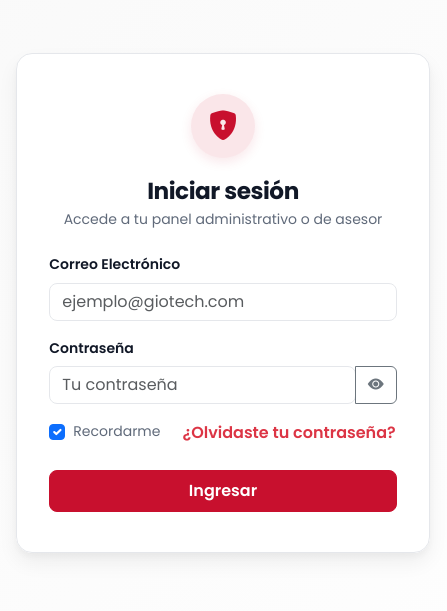
Scenario: Login Component & Error Mapping › displays Spanish error alert when login fails with invalid credentials
This screenshot has width=447, height=611.
Type "admin@giotech.com" into the field with placeholder "ejemplo@giotech.com" at (223, 302), box [49, 283, 397, 321]
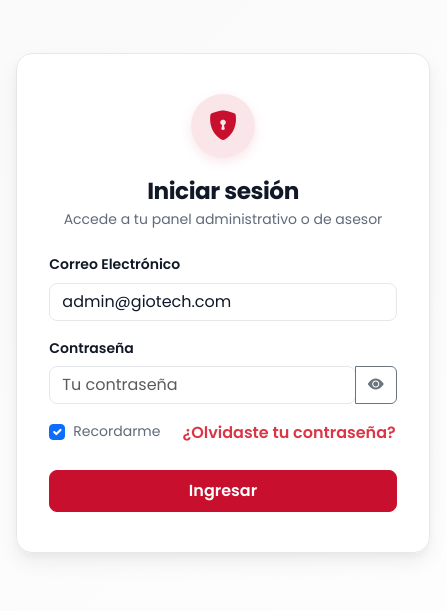
Type "wrongpassword" into the password field with placeholder "Tu contraseña" at (202, 385), box [49, 366, 356, 404]
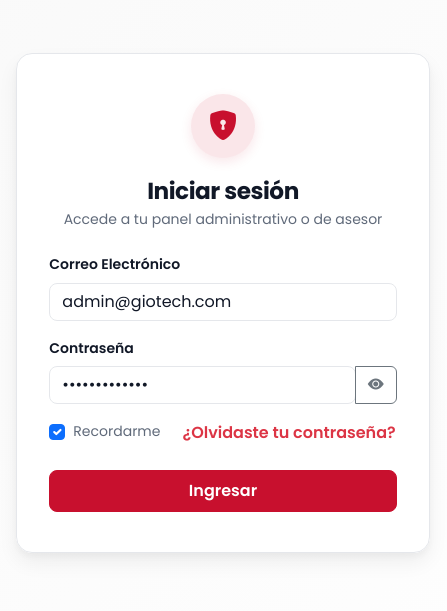
Click the button "Ingresar" at (223, 491), box [49, 470, 397, 512]
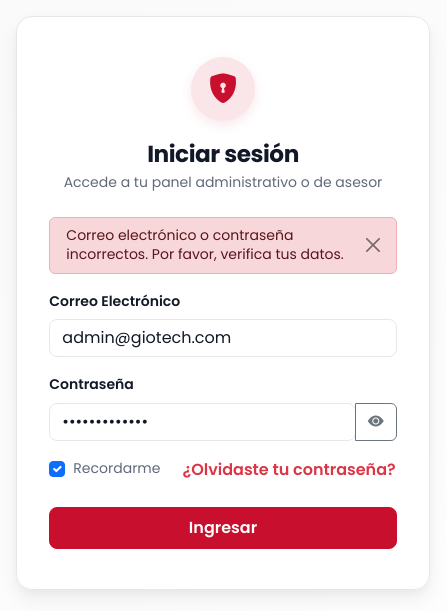
Now the text "Correo electrónico o contraseña incorrectos. Por favor, verifica tus datos." is shown, box [49, 216, 397, 274]
